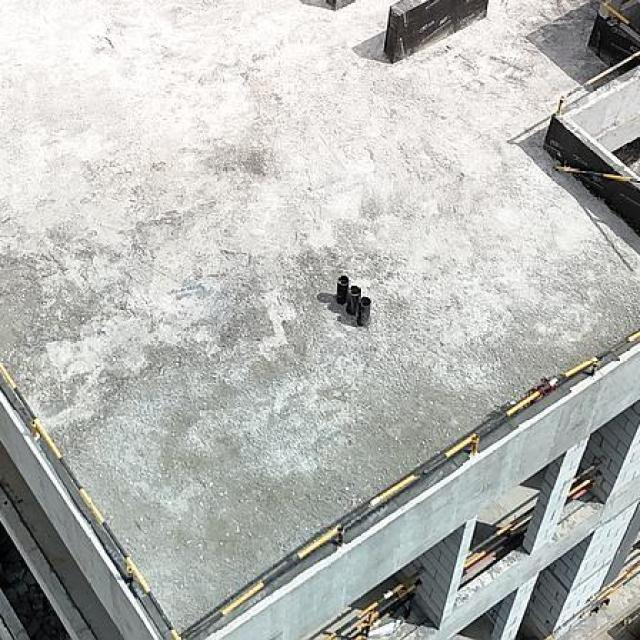edge_guardrail: (0, 327, 639, 640), (328, 571, 422, 639), (555, 49, 640, 114), (463, 505, 536, 569), (585, 559, 640, 604), (553, 163, 640, 184), (597, 0, 640, 34), (564, 464, 596, 506)
